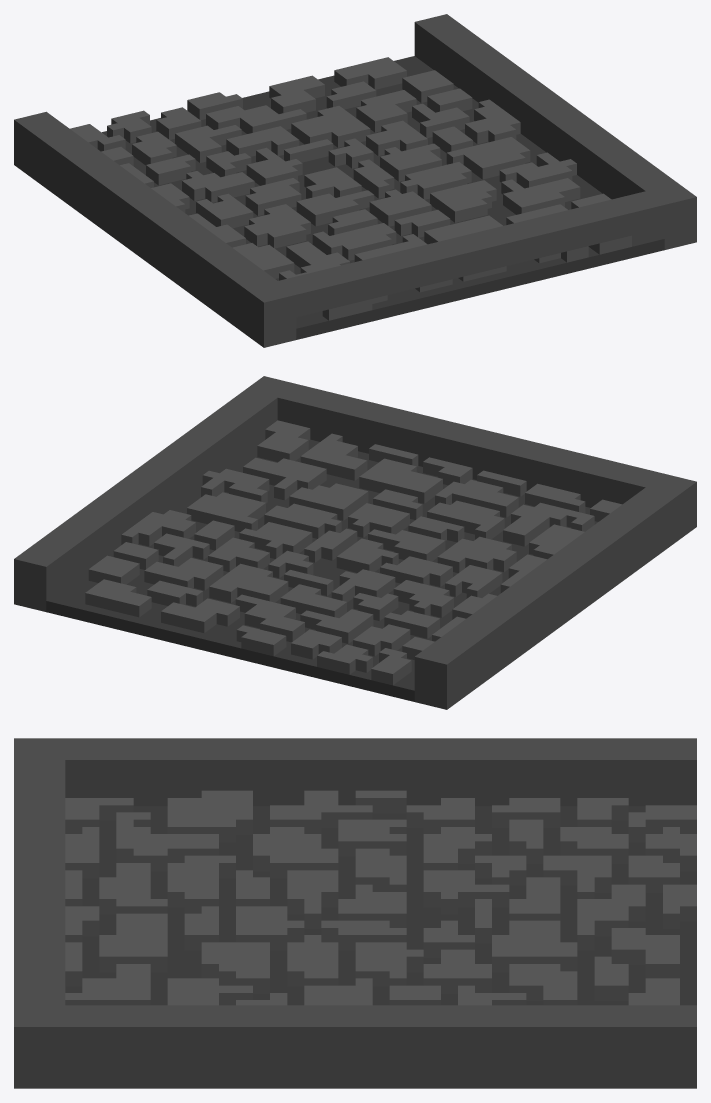
File: Rock Path Final.obj
3 renders of one model, top to bottom at view 1: azimuth 30°, elevation 25°; view 2: azimuth 150°, elevation 25°; view 3: azimuth 270°, elevation 25°, orthographic. The views are drawn at different scales.
Bounding box in the file's own units: 4 × 0.4 × 4.
1 material, 1 textured.
